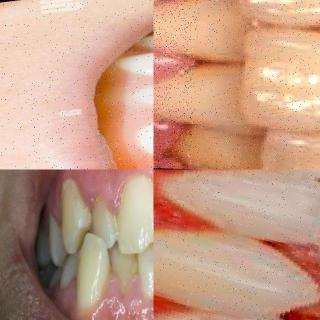Gum Swelling: (153, 169, 216, 320), (153, 0, 183, 170), (46, 170, 130, 210), (82, 281, 154, 320)
calculus: (125, 255, 151, 283)
maligned: (77, 233, 113, 315), (88, 195, 116, 250)
plaque: (50, 170, 90, 226)
